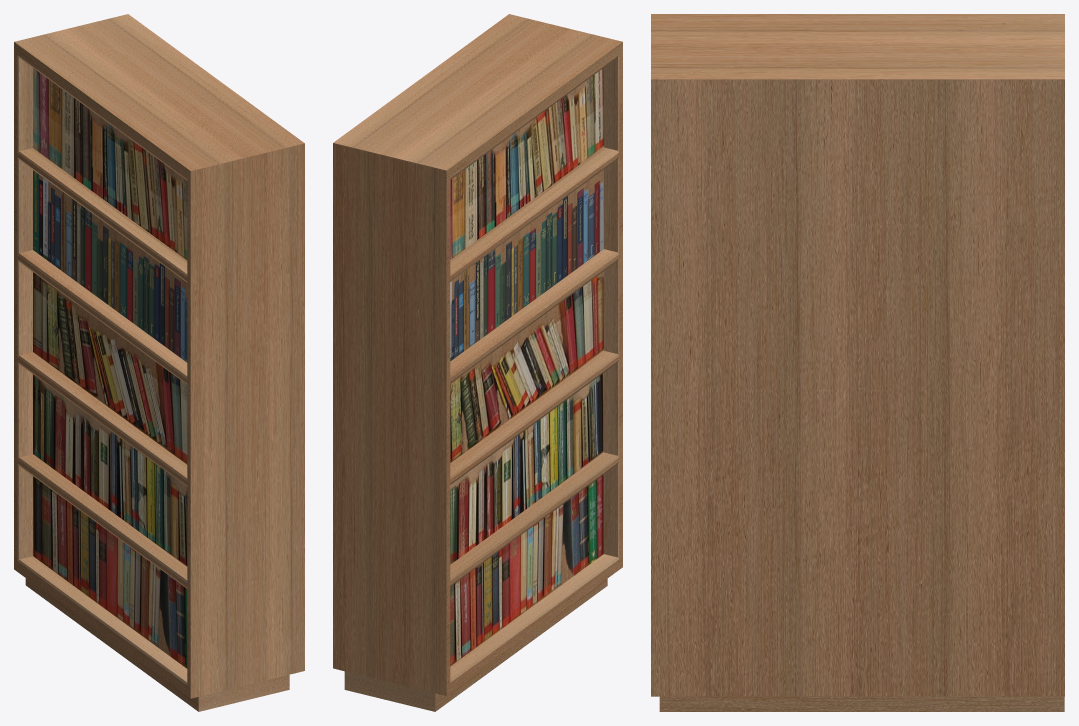
File: Shelf5x1RightBooked.fbx
3 renders of one model, left to right at view 1: azimuth 30°, elevation 25°; view 2: azimuth 150°, elevation 25°; view 3: azimuth 270°, elevation 25°, orthographic. The views are drawn at different scales.
Parts seen in each view (by area): view 1: Shelf5x1Right; view 2: Shelf5x1Right; view 3: Shelf5x1Right.
Part boxes in pixels (left/top/right/bottom): Shelf5x1Right: left=14, top=14, right=304, bottom=711; Shelf5x1Right: left=333, top=14, right=622, bottom=711; Shelf5x1Right: left=651, top=14, right=1064, bottom=711.
Bounding box in the file's own units: 127 × 580 × 340.
